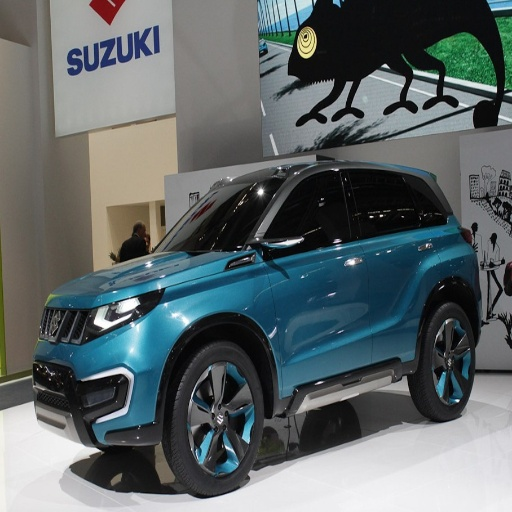front_bumper: (31, 308, 178, 449)
front_glass: (166, 182, 279, 254)
front_left_door: (264, 169, 371, 378)
